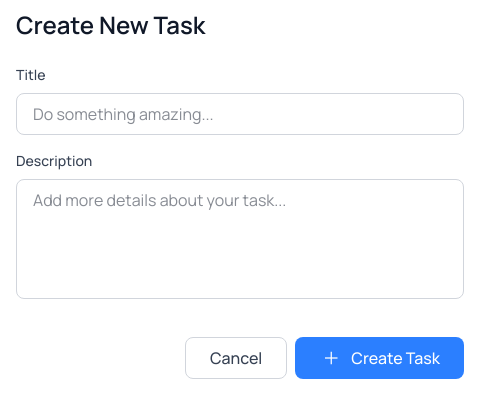
Test: NewTask Component › loading state › disables submit button while submitting
The image size is (481, 396).
In the field named "title": {"x": 240, "y": 114} [16,93,464,135], type "Valid Title"
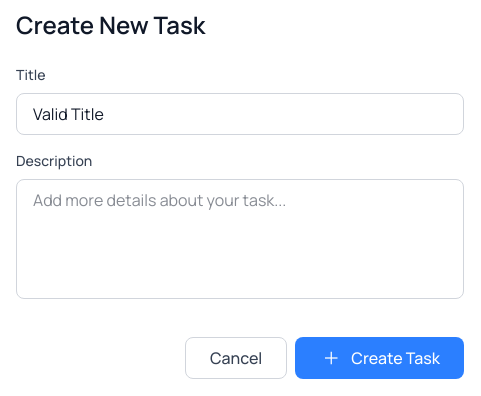
In the text box named "description": {"x": 240, "y": 239} [16,179,464,299], type "This is a valid description"
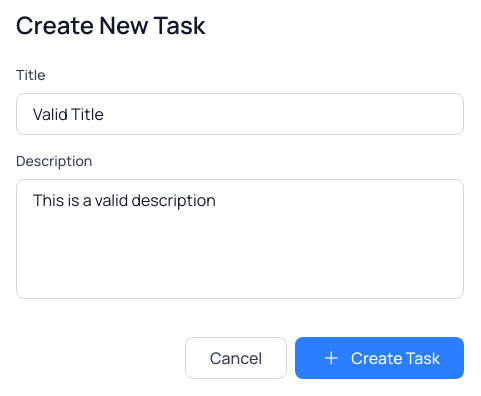
Check: the button "Create Task" is enabled, box [295,337,464,379]
Submit the form
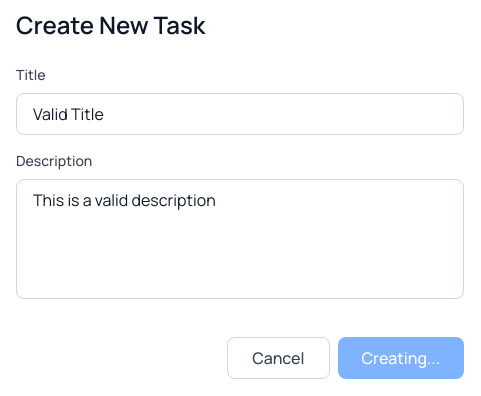
Check: the button "Creating..." is disabled, box [338,337,464,379]
